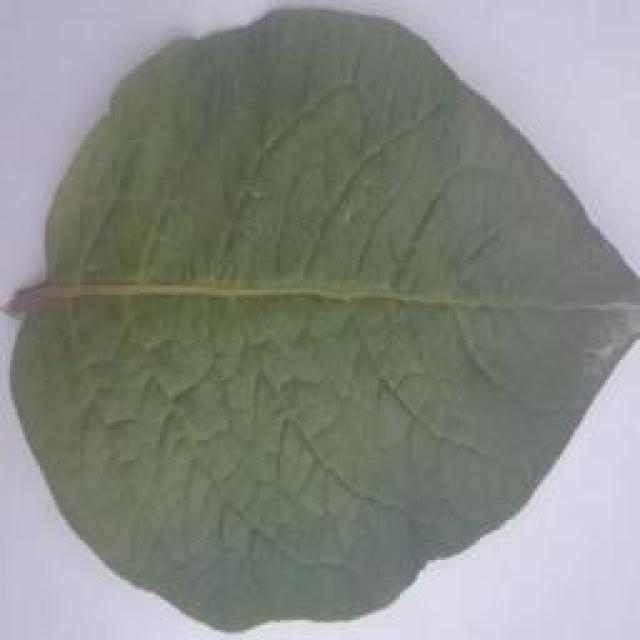Potato_Healthy: (5, 8, 630, 633)
